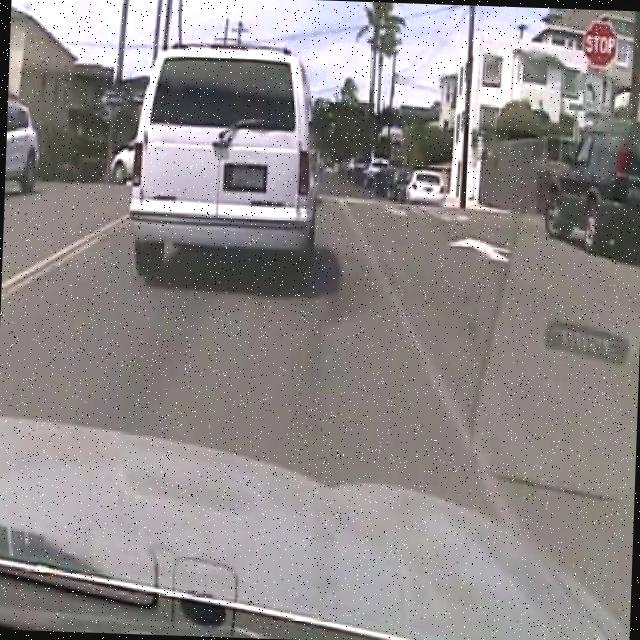Stop: (580, 18, 620, 70)
